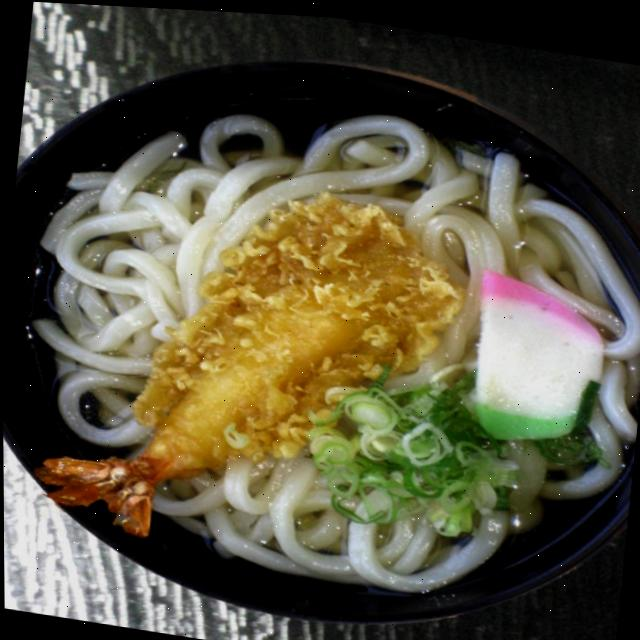面条主食: (0, 62, 640, 620)
